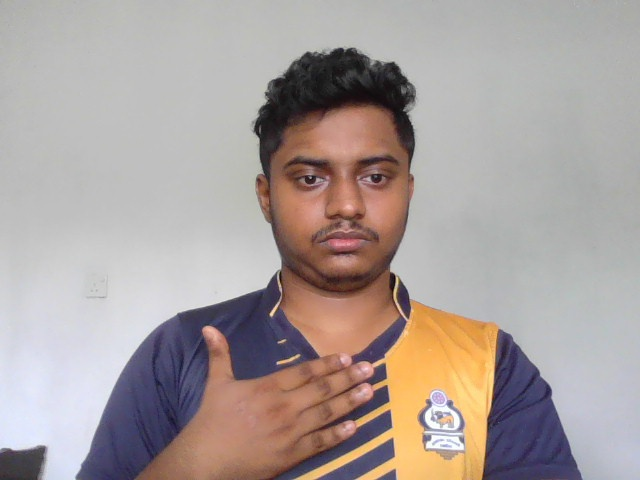Please: (198, 325, 378, 480)
